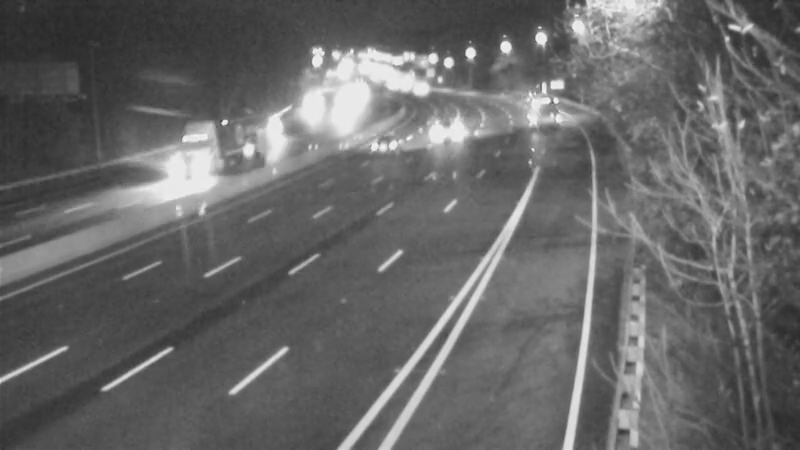vehicle: (140, 133, 220, 213), (515, 86, 565, 136), (429, 102, 479, 152), (361, 118, 411, 168), (252, 111, 302, 161), (285, 80, 335, 130)
